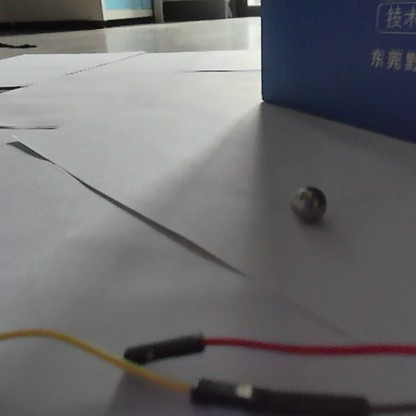ironball: (289, 182, 329, 224)
